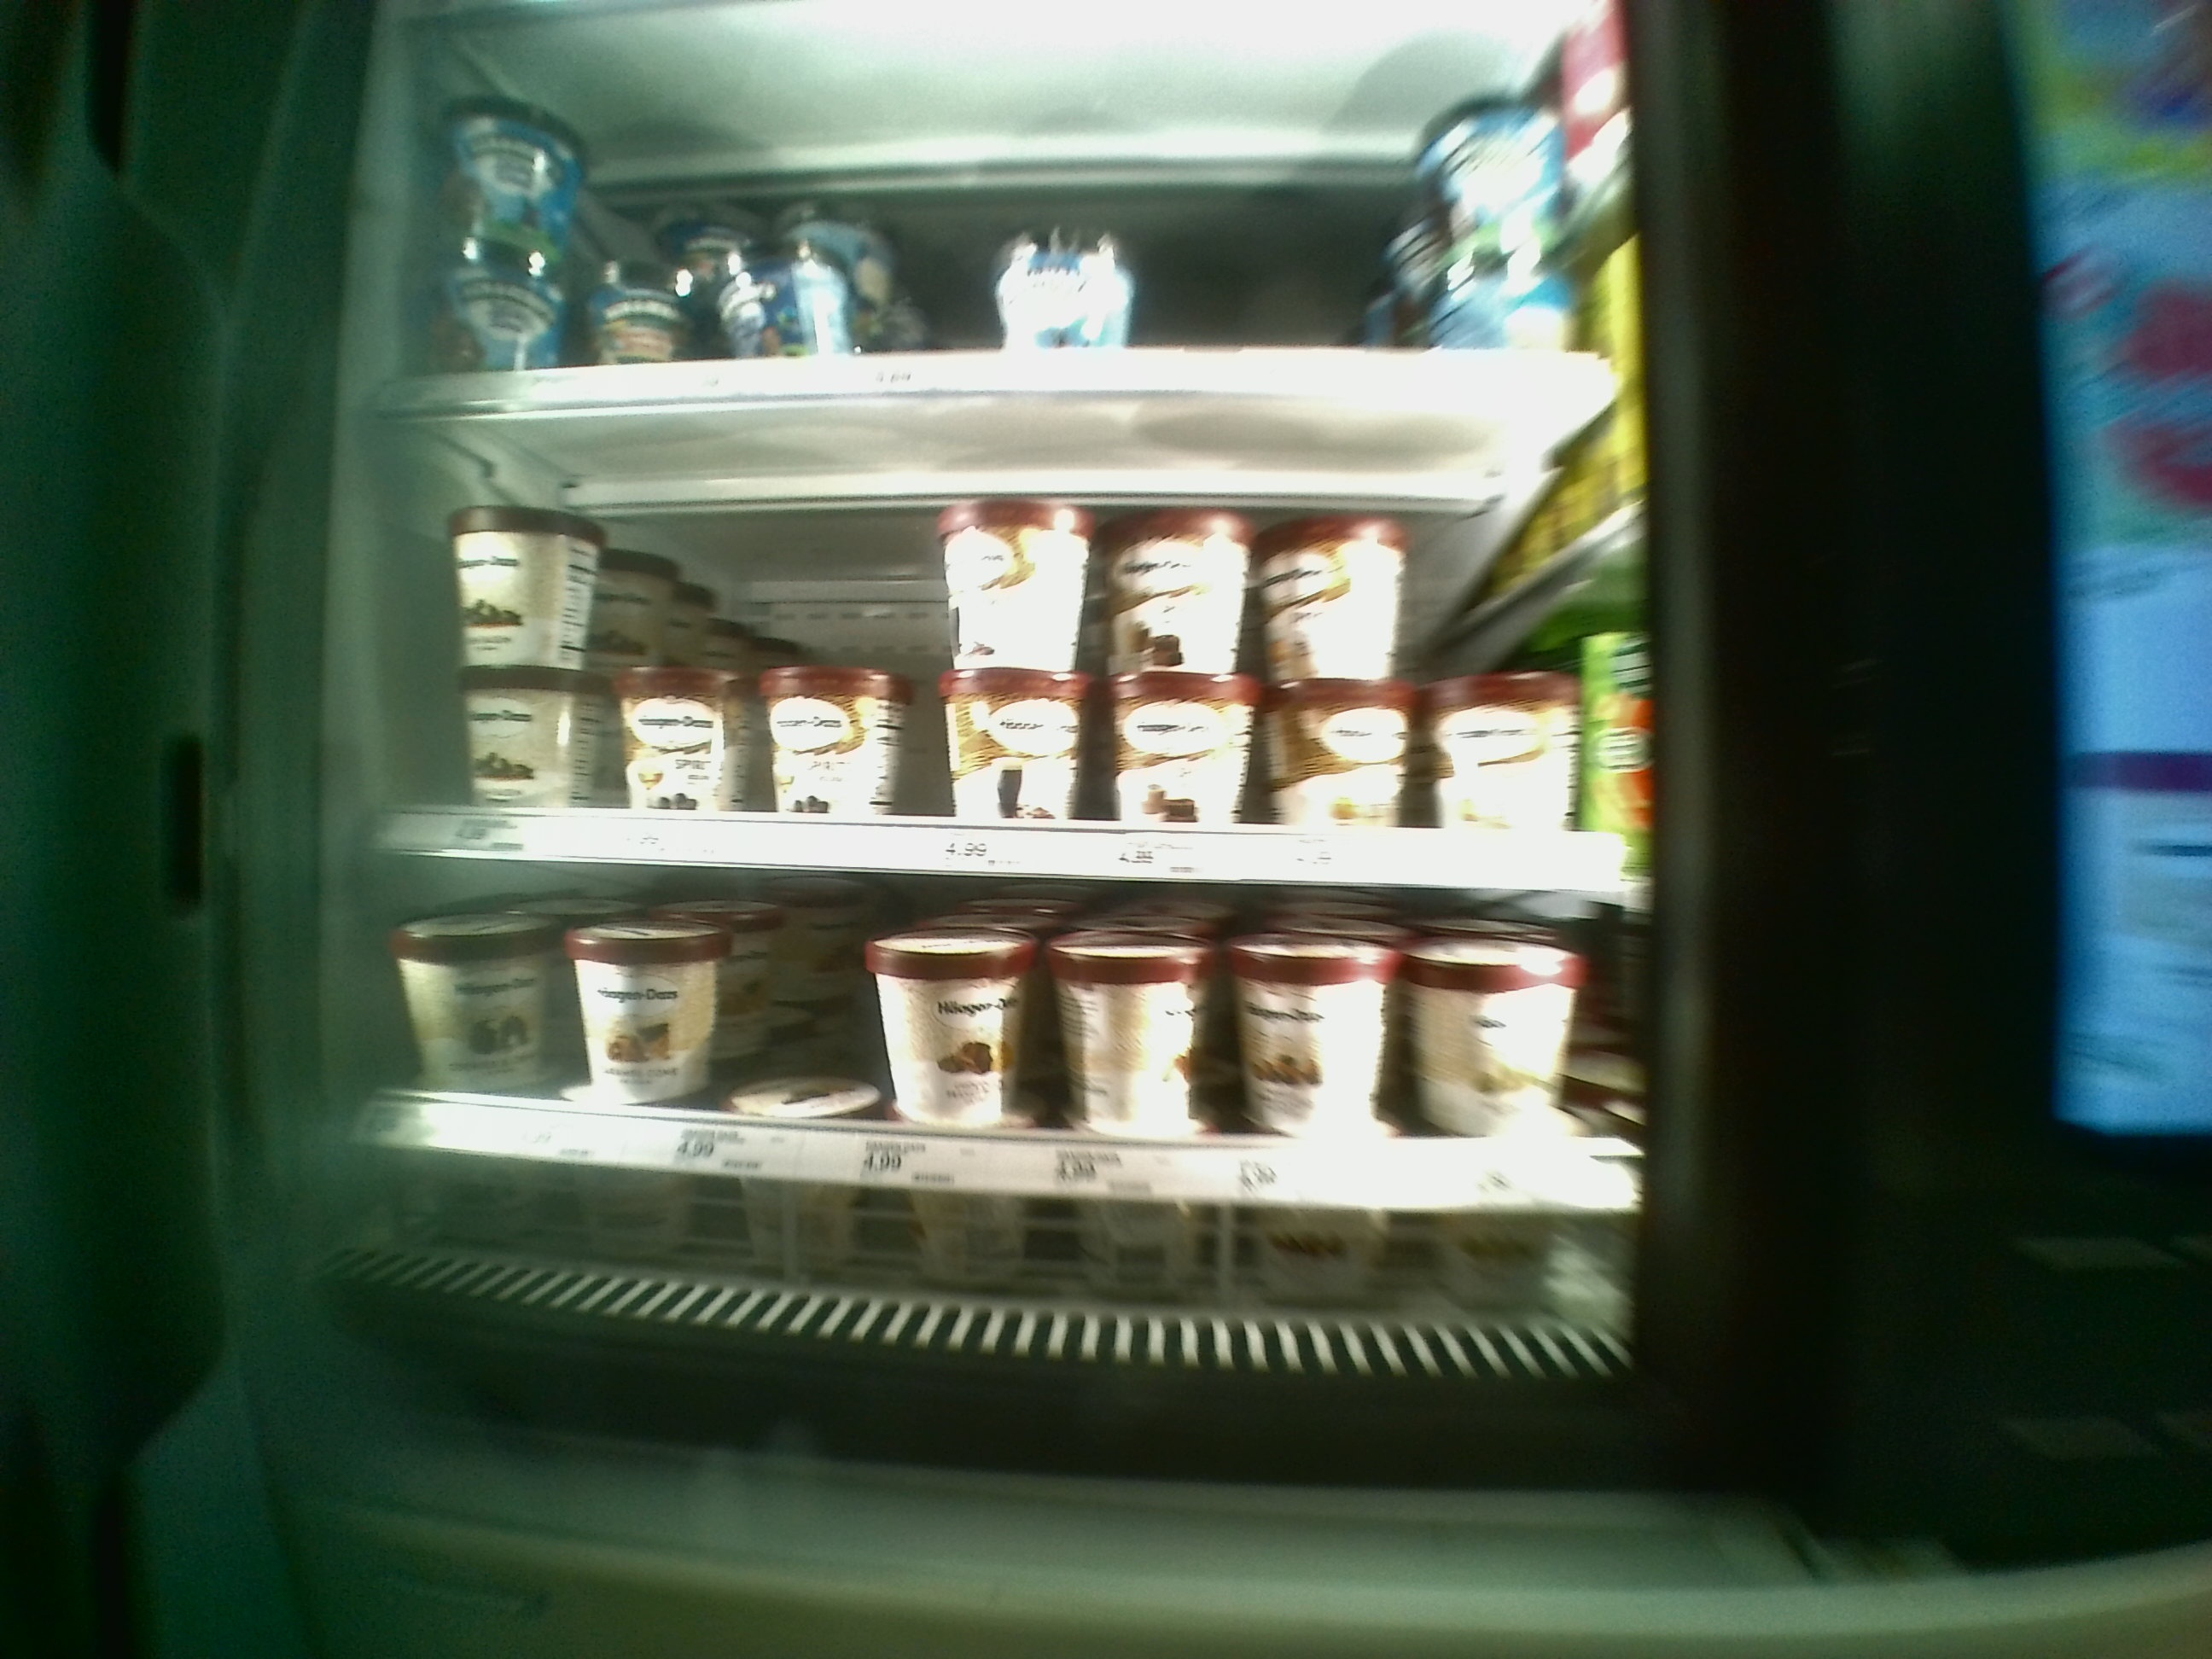shelf: (357, 420, 1646, 894), (361, 857, 1641, 1229)
